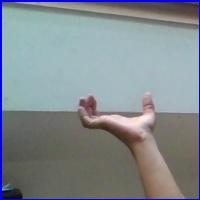space: (67, 88, 158, 152)
